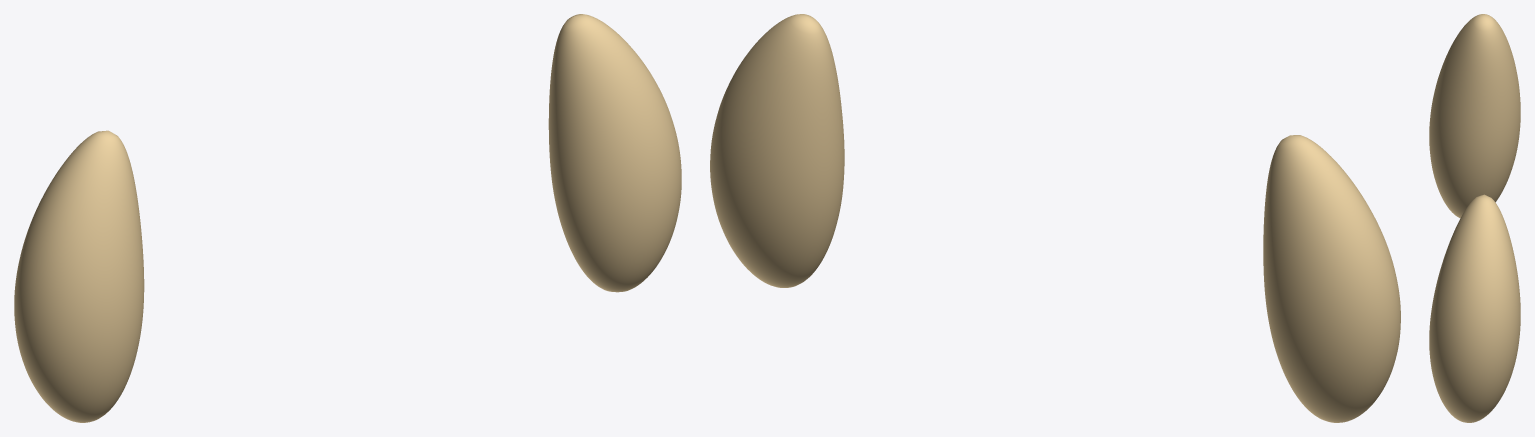
The model's file is Masculine-arms.glb.
3 views of the same model, side by side, from view 1: azimuth 30°, elevation 25°; view 2: azimuth 150°, elevation 25°; view 3: azimuth 270°, elevation 25° (orthographic). The views are drawn at different scales.
Visible parts, largest first — view 1: Skin / swept arm -1, Skin / swept arm 1; view 2: Skin / swept arm -1, Skin / swept arm 1; view 3: Skin / swept arm 1, Skin / swept arm -1.
Part boxes in pixels (<box>): Skin / swept arm -1: <box>14,130,144,422</box>; Skin / swept arm 1: <box>548,14,681,292</box>; Skin / swept arm -1: <box>1263,135,1400,422</box>; Skin / swept arm 1: <box>710,14,844,287</box>; Skin / swept arm 1: <box>1429,194,1520,422</box>; Skin / swept arm -1: <box>1429,14,1520,218</box>.
Bounding box in the file's own units: 1.04 × 0.4162 × 0.1622.
